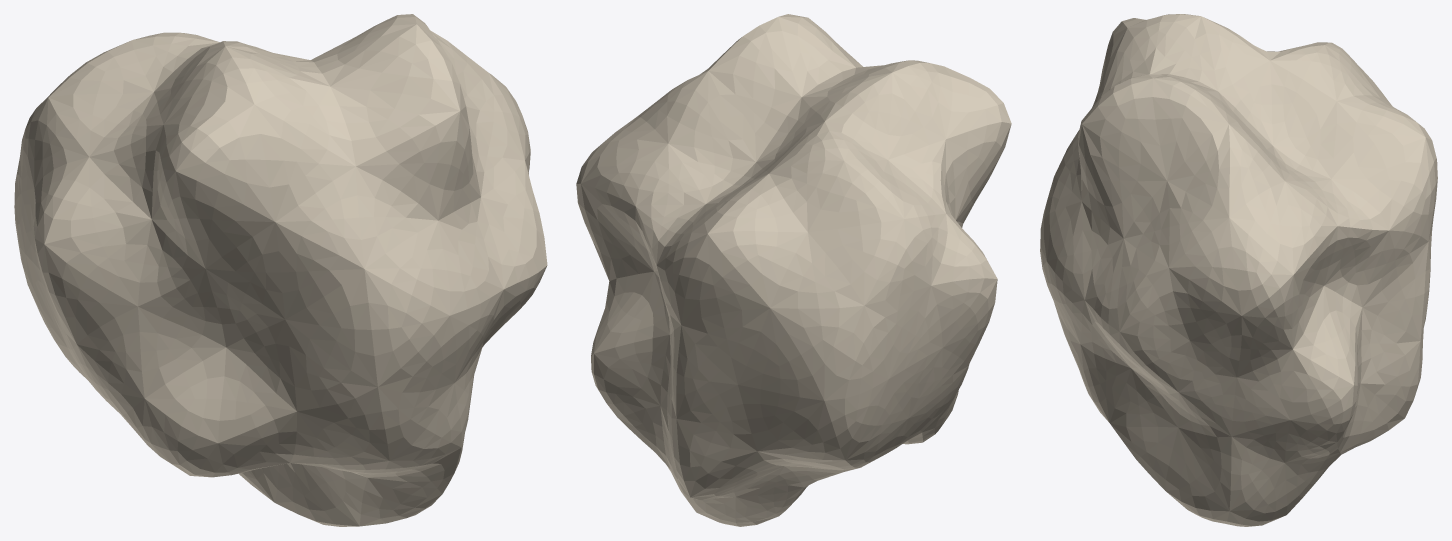
File: astroid 1.fbx
3 renders of one model, left to right at view 1: azimuth 30°, elevation 25°; view 2: azimuth 150°, elevation 25°; view 3: azimuth 270°, elevation 25°, orthographic. The views are drawn at different scales.
Parts seen in each view (by area): view 1: Astroid; view 2: Astroid; view 3: Astroid.
Part boxes in pixels (x1,y1,x2,y2): Astroid: [14, 14, 547, 526]; Astroid: [576, 14, 1011, 526]; Astroid: [1040, 14, 1437, 526].
Size of the model in its own units: 173 by 187 by 151.
